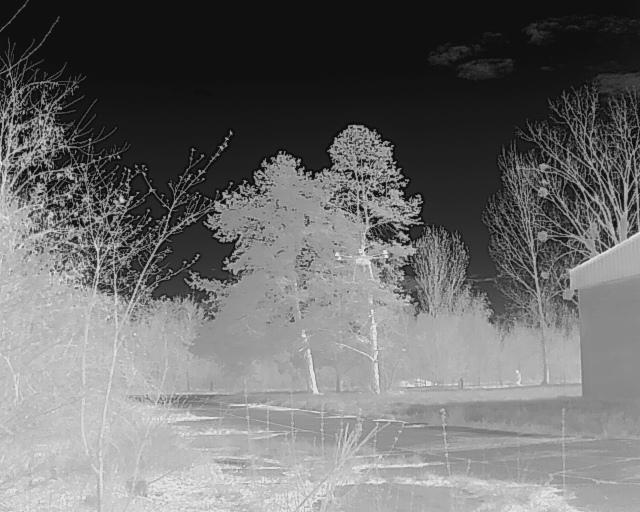drone: (330, 246, 395, 285)
